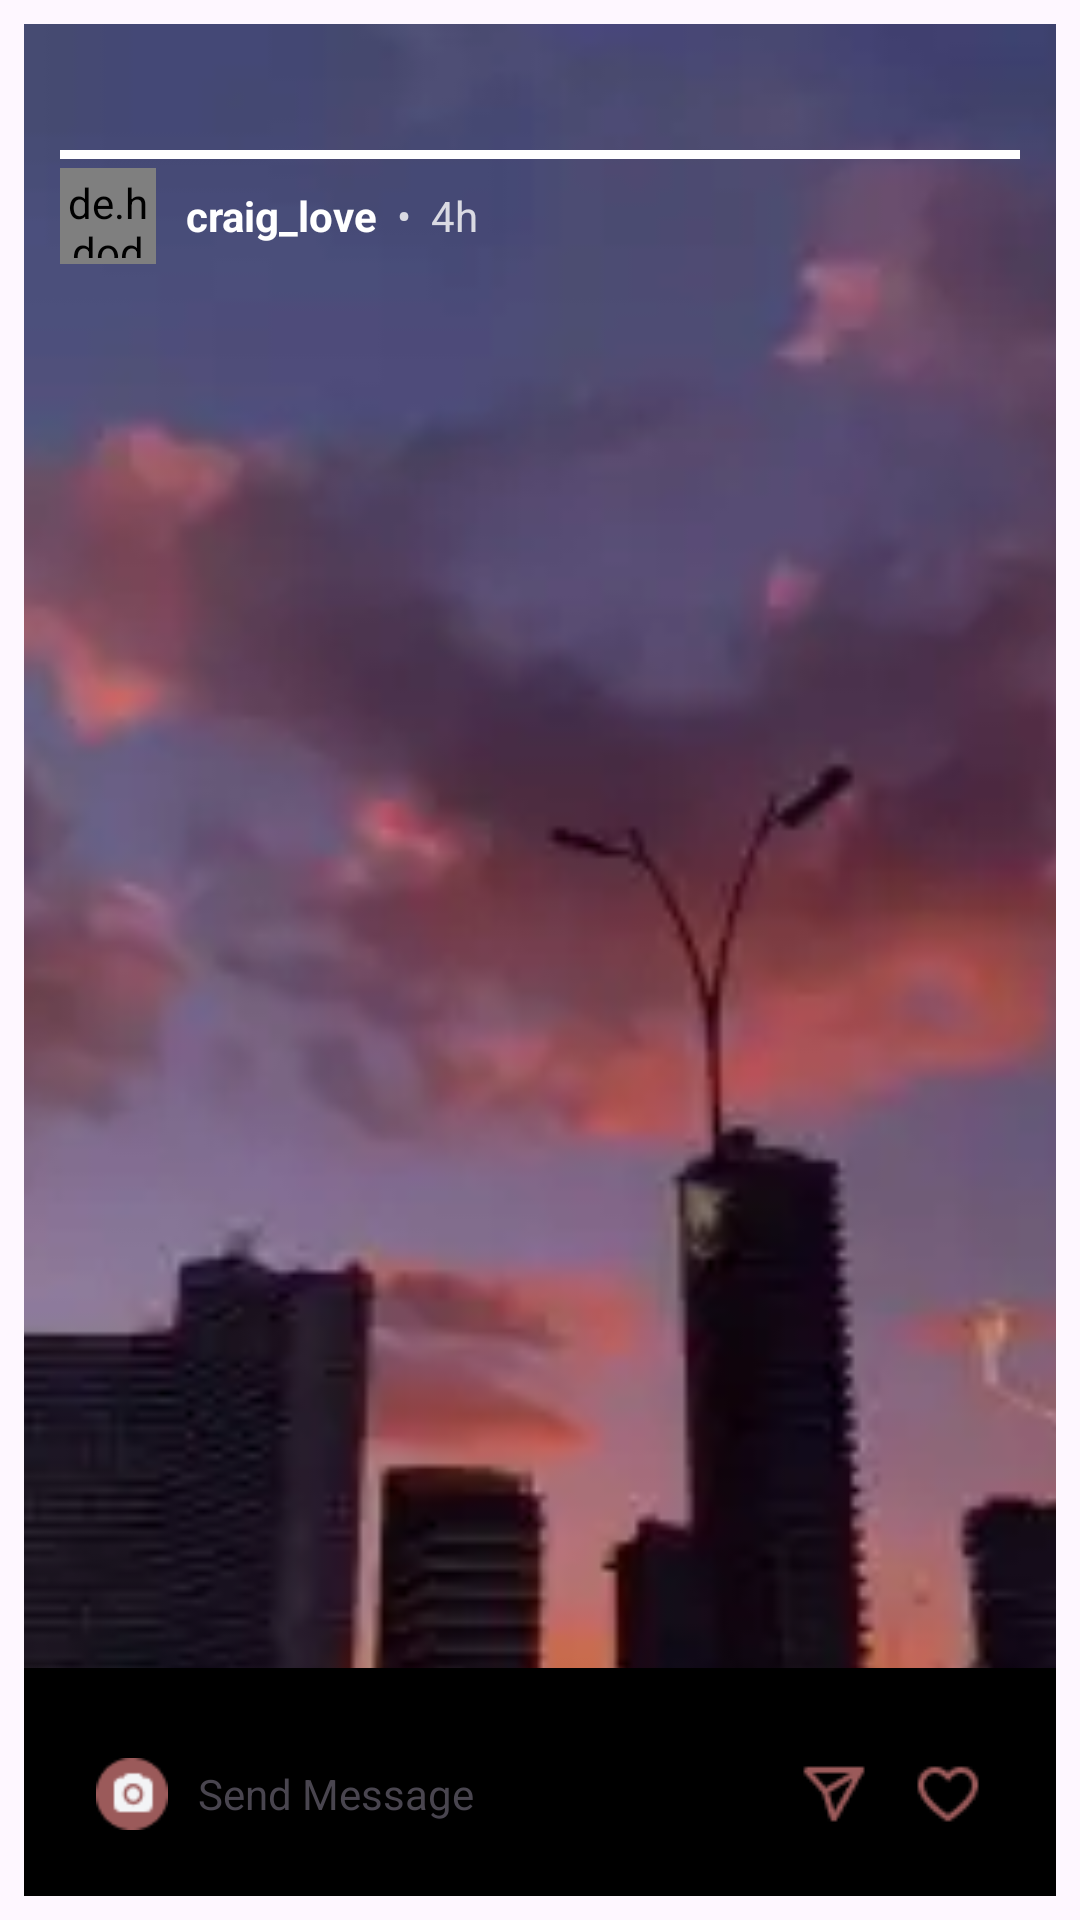

Icons on this 1080w x 1920h Android screen, each with its box as (x1, y1, x2, y2):
camer chats: (96, 1758, 168, 1830)
like: (917, 1766, 979, 1822)
share: (803, 1766, 865, 1822)
